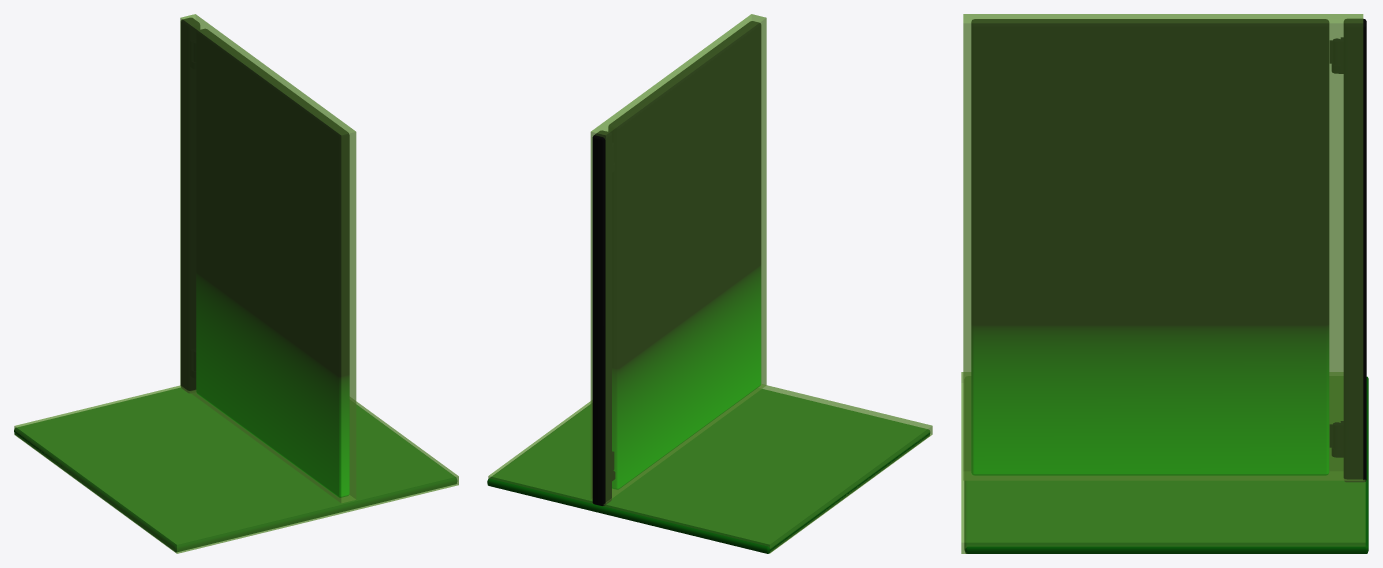
The model's file is M_md_Door_1m_02.fbx.
3 renders of one model, left to right at view 1: azimuth 30°, elevation 25°; view 2: azimuth 150°, elevation 25°; view 3: azimuth 270°, elevation 25°, orthographic. The views are drawn at different scales.
Visible parts, largest first — view 1: M_md_Door_1m_02_LOD0, M_md_Door_1m_02_col_02, M_md_Door_1m_02_col_01; view 2: M_md_Door_1m_02_LOD0, M_md_Door_1m_02_col_02, M_md_Door_1m_02_col_01; view 3: M_md_Door_1m_02_LOD0, M_md_Door_1m_02_col_02, M_md_Door_1m_02_col_01.
Boxes of the visible parts, x1,y1,x2,y2 form: M_md_Door_1m_02_LOD0: [14, 17, 457, 552]; M_md_Door_1m_02_col_02: [180, 14, 356, 503]; M_md_Door_1m_02_col_01: [14, 385, 458, 553]; M_md_Door_1m_02_LOD0: [487, 21, 930, 553]; M_md_Door_1m_02_col_02: [590, 14, 766, 502]; M_md_Door_1m_02_col_01: [488, 384, 932, 553]; M_md_Door_1m_02_LOD0: [964, 18, 1368, 553]; M_md_Door_1m_02_col_02: [963, 14, 1363, 480]; M_md_Door_1m_02_col_01: [961, 372, 1365, 553].
Size of what is drawn, in the model's own units: 100 by 128 by 101.
